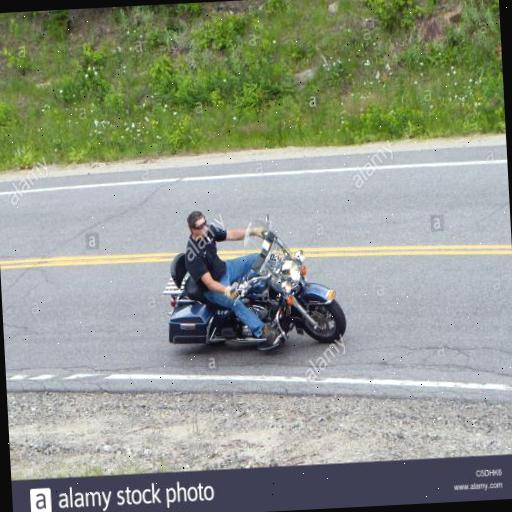no helmet: (142, 190, 317, 380)
